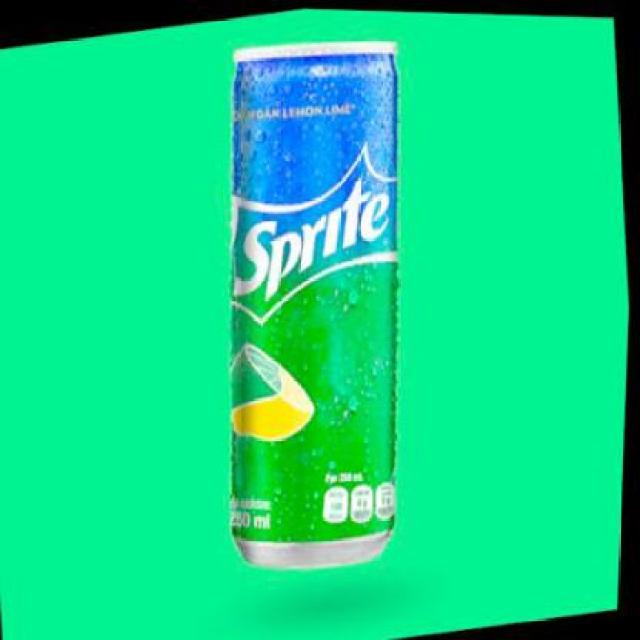Metal: (228, 43, 399, 568)
